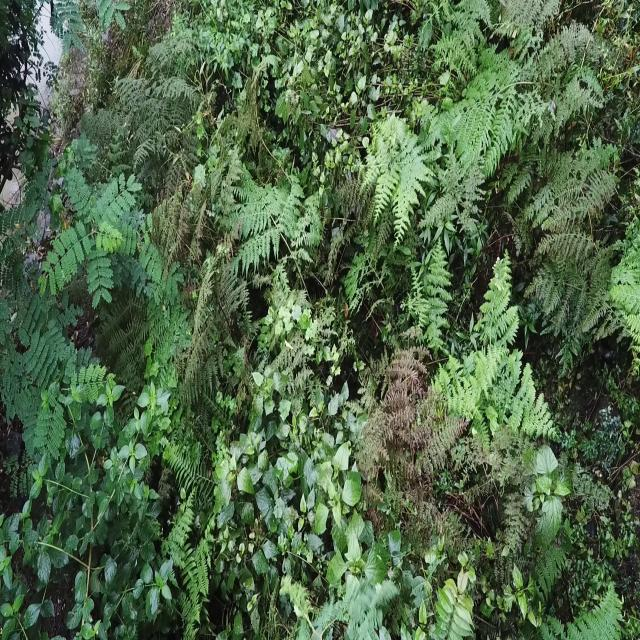Mysore-Thorn-Weed: (28, 129, 188, 310), (0, 290, 118, 486), (38, 0, 132, 58)
